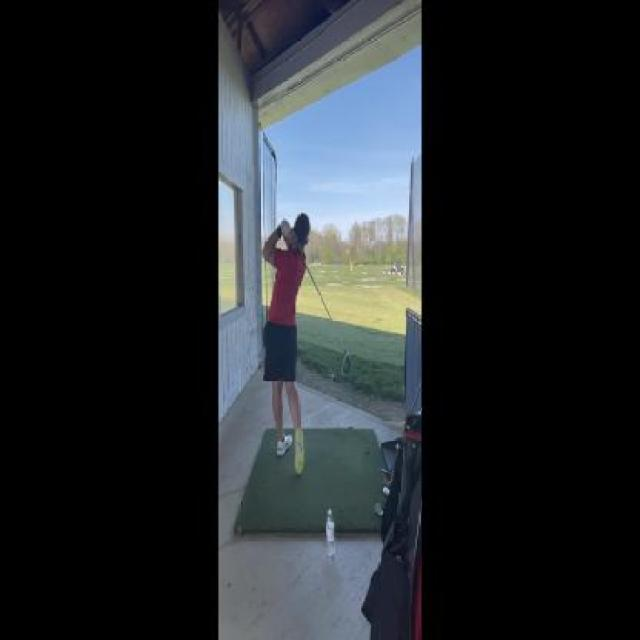club head: (341, 344, 352, 378)
